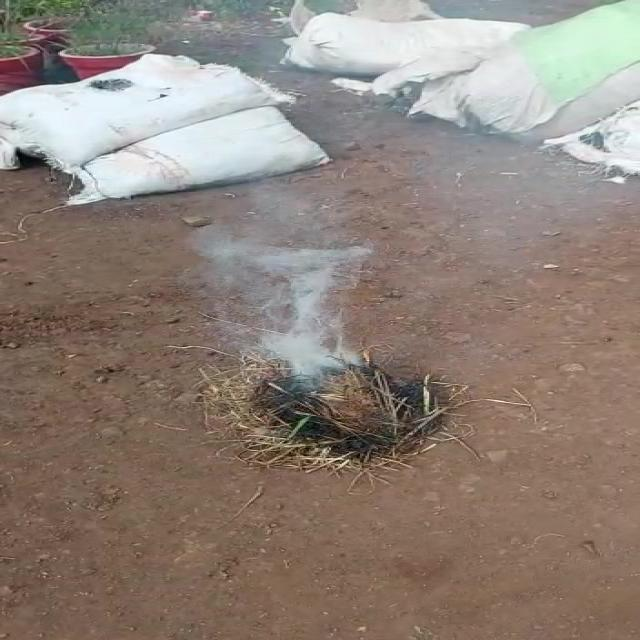Smoke: (200, 234, 367, 388)
